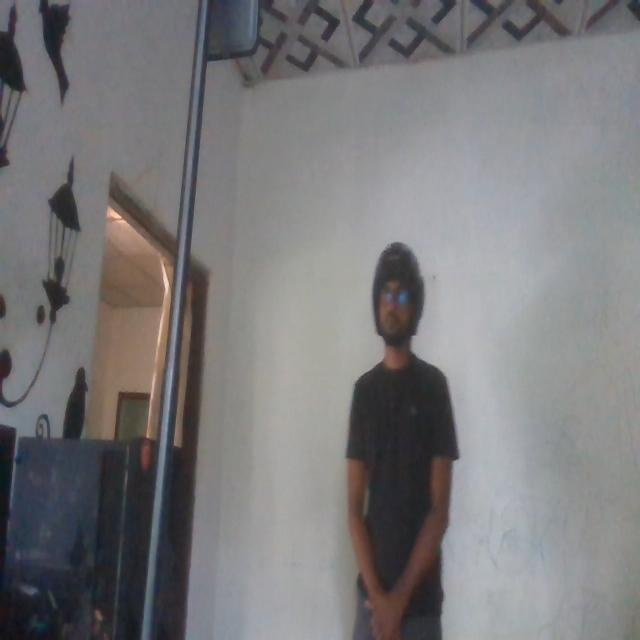Helmet_Wearer: (369, 242, 425, 380)
Person: (341, 225, 466, 640)
